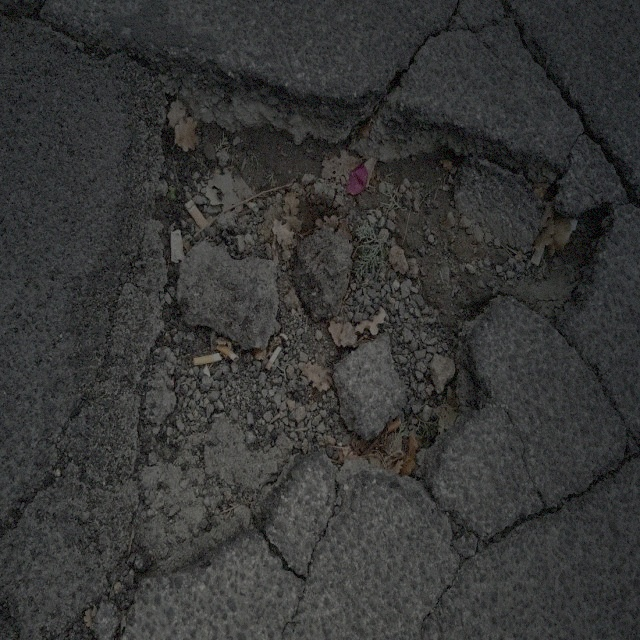pothole: (133, 51, 591, 539)
